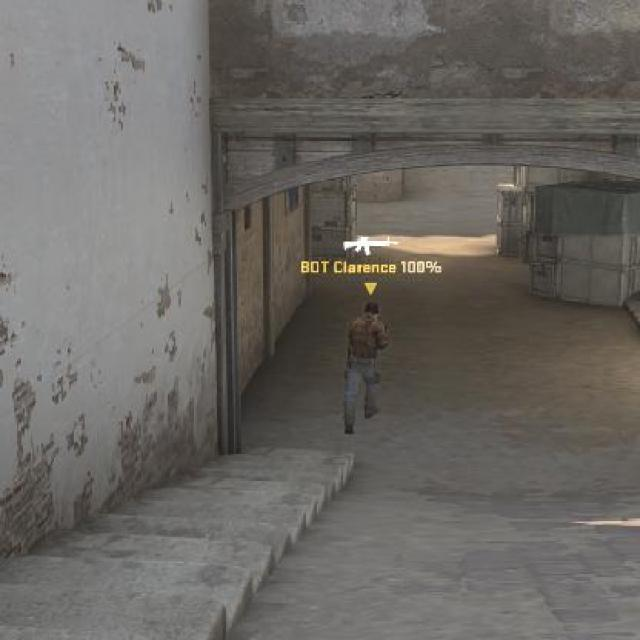T: (342, 298, 392, 431)
T_HEAD: (363, 300, 381, 322)
